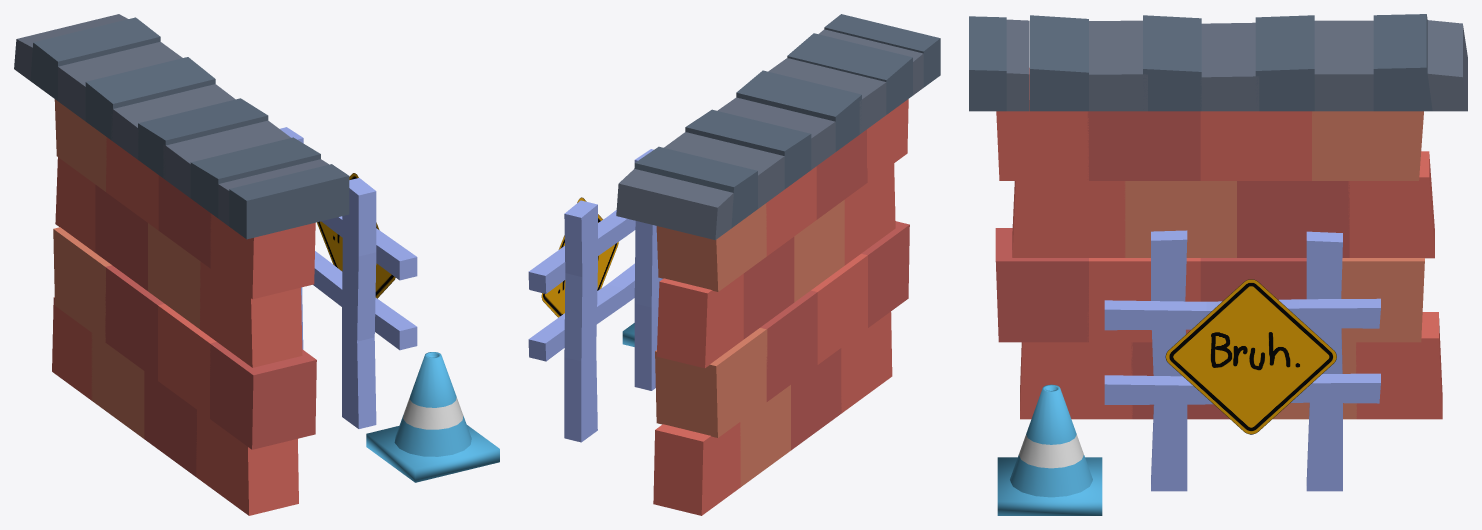
The model's file is wall.fbx.
The picture shows the model from 3 angles, left to right: view 1: azimuth 30°, elevation 25°; view 2: azimuth 150°, elevation 25°; view 3: azimuth 270°, elevation 25°; orthographic projection. The views are drawn at different scales.
Visible parts, largest first — view 1: Cube.016, Cone, Cube.028, Cube.012, Cube.020, Cube.002, Cube.008, Cube.024, Cube.018, Cube.019, Cube.017, Cube.026 (+19 smaller); view 2: Cube.019, Cube.029, Cube.023, Cube.015, Cube.011, Cube.027, Cube.006, Cube.004, Cube.018, Cube.017, Cube.024, Cube.028 (+19 smaller); view 3: bruh sign, Cone, Cube.012, Cube.016, Cube.009, Cube.010, Cube.014, Cube.011, Cube.013, Cube.020, Cube.015, Cube.028 (+20 smaller).
Boxes of the visible parts, box(x1,y1,x2,y2) form: Cube.016: box(210, 342, 316, 449); Cone: box(366, 352, 499, 482); Cube.028: box(342, 178, 376, 428); Cube.012: box(200, 262, 302, 367); Cube.020: box(196, 410, 298, 515); Cube.002: box(229, 164, 349, 239); Cube.008: box(210, 213, 315, 299); Cube.024: box(85, 57, 215, 139); Cube.018: box(105, 265, 164, 380); Cube.019: box(53, 227, 111, 342); Cube.017: box(158, 304, 216, 418); Cube.026: box(30, 17, 160, 100); Cube.019: box(655, 328, 767, 437); Cube.029: box(564, 200, 597, 442); Cube.023: box(653, 422, 740, 515); Cube.015: box(656, 274, 743, 368); Cube.011: box(656, 203, 766, 291); Cube.027: box(616, 169, 733, 240); Cube.006: box(736, 70, 861, 151); Cube.004: box(787, 33, 912, 114); Cube.018: box(760, 290, 817, 401); Cube.017: box(811, 253, 867, 364); Cube.024: box(685, 109, 811, 188); Cube.028: box(634, 149, 662, 390); bruh sign: box(1165, 279, 1336, 434); Cone: box(997, 384, 1102, 515); Cube.012: box(1012, 181, 1125, 257); Cube.016: box(995, 228, 1088, 342); Cube.009: box(1087, 111, 1200, 180); Cube.010: box(1200, 111, 1311, 180); Cube.014: box(1237, 181, 1349, 257); Cube.011: box(1312, 111, 1423, 180); Cube.013: box(1124, 181, 1236, 257); Cube.020: box(1020, 342, 1132, 419); Cube.015: box(1348, 151, 1434, 258); Cube.028: box(1151, 230, 1187, 491).
Size of the model in its own units: 884 by 1081 by 1337.
